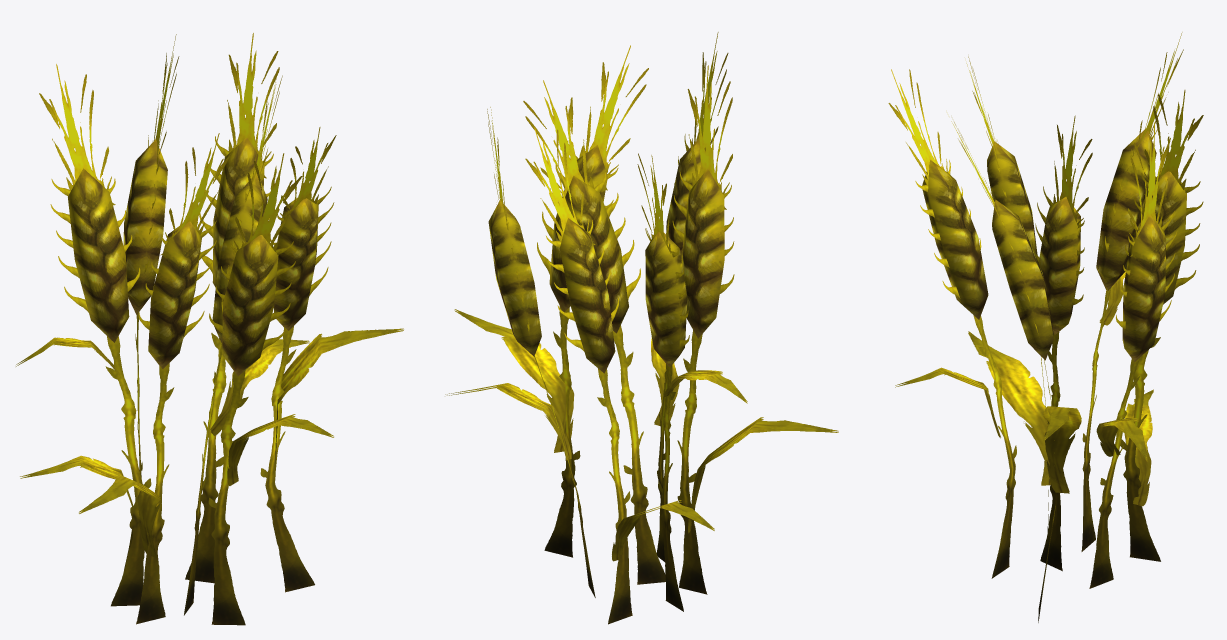
Rendered from wheat_stage3.FBX.
The picture shows the model from 3 angles, left to right: view 1: azimuth 30°, elevation 25°; view 2: azimuth 150°, elevation 25°; view 3: azimuth 270°, elevation 25°; orthographic projection. The views are drawn at different scales.
Visible parts, largest first — view 1: wheat_stage3; view 2: wheat_stage3; view 3: wheat_stage3.
Boxes of the visible parts, left/top/right/bottom form: wheat_stage3: left=16, top=33, right=403, bottom=625; wheat_stage3: left=445, top=32, right=838, bottom=624; wheat_stage3: left=888, top=32, right=1203, bottom=622.
Bounding box in the file's own units: 5.86 × 7.82 × 4.62.
Materials: 1 (1 with a texture image).
